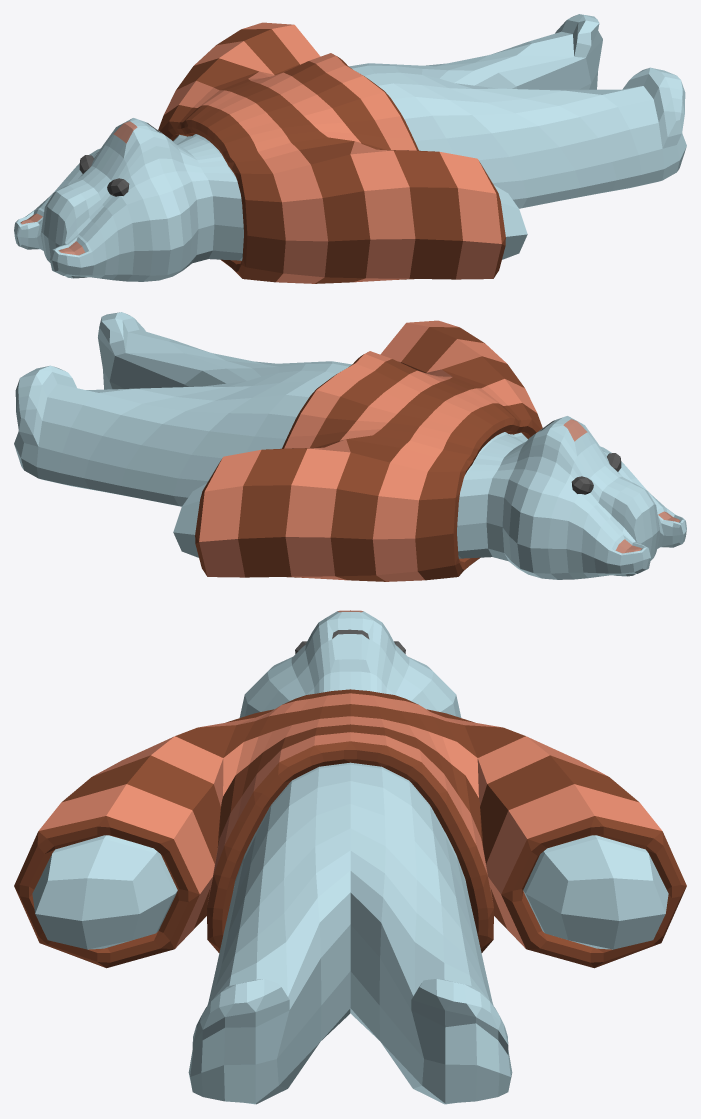
File: npc3.fbx
The picture shows the model from 3 angles, top to bottom: view 1: azimuth 30°, elevation 25°; view 2: azimuth 150°, elevation 25°; view 3: azimuth 270°, elevation 25°; orthographic projection. The views are drawn at different scales.
Visible parts, largest first — view 1: Plane; view 2: Plane; view 3: Plane.
Part boxes in pixels (x1,y1,x2,y2): Plane: (14,14,686,283); Plane: (14,312,686,581); Plane: (14,610,686,1104).
Bounding box in the file's own units: 604 × 149 × 435.
